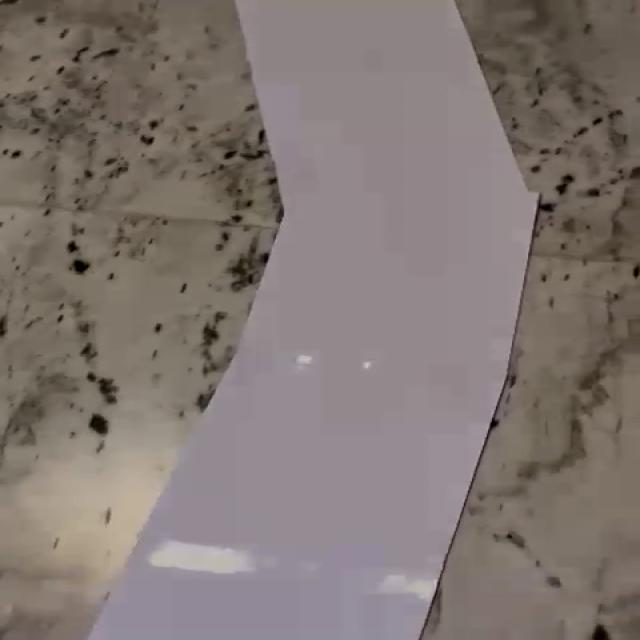road: (84, 0, 540, 640)
